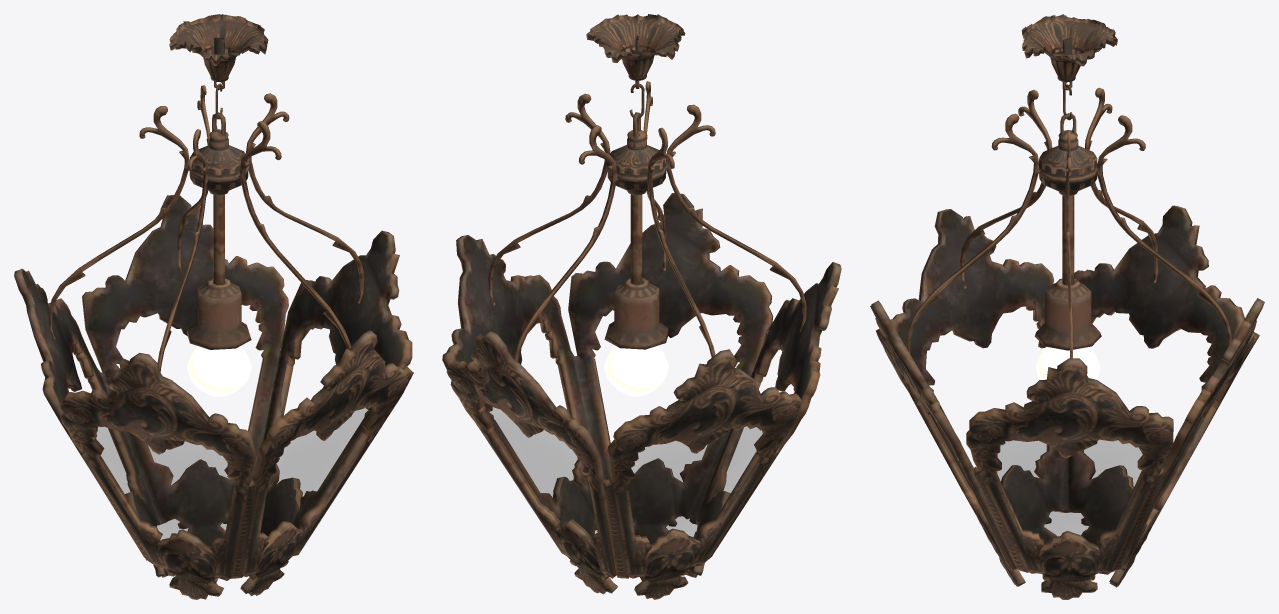
Rendered from ph-lantern_chandelier_01.glb.
3 views of the same model, side by side, from view 1: azimuth 30°, elevation 25°; view 2: azimuth 150°, elevation 25°; view 3: azimuth 270°, elevation 25° (orthographic).
Visible parts, largest first — view 1: lantern_chandelier_01; view 2: lantern_chandelier_01; view 3: lantern_chandelier_01.
Part boxes in pixels (x1,y1,x2,y2): lantern_chandelier_01: (14, 14, 413, 599); lantern_chandelier_01: (442, 14, 841, 599); lantern_chandelier_01: (870, 14, 1264, 599).
Size of the model in its own units: 0.66 by 1 by 0.6548.
Materials: 3 (2 with a texture image).
